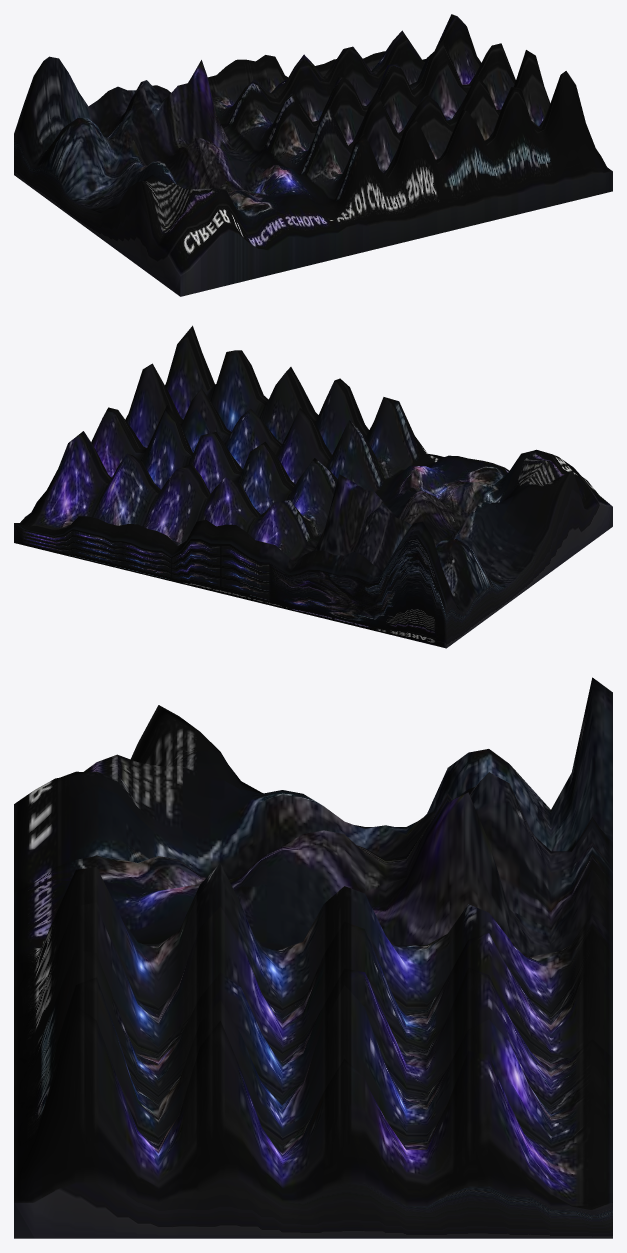
Rendered from CAREER_11_VFX_01_Cantrip.glb.
3 views of the same model, one above another, from view 1: azimuth 30°, elevation 25°; view 2: azimuth 150°, elevation 25°; view 3: azimuth 270°, elevation 25° (orthographic). The views are drawn at different scales.
Parts seen in each view (by area): view 1: CAREER_11_VFX_01_Cantrip; view 2: CAREER_11_VFX_01_Cantrip; view 3: CAREER_11_VFX_01_Cantrip.
Boxes of the visible parts, x1=… form: CAREER_11_VFX_01_Cantrip: x1=14, y1=14, x2=612, y2=296; CAREER_11_VFX_01_Cantrip: x1=14, y1=325, x2=612, y2=648; CAREER_11_VFX_01_Cantrip: x1=14, y1=677, x2=612, y2=1238.
Size of the model in its own units: 2 by 0.51 by 1.33.
1 material, 1 textured.
